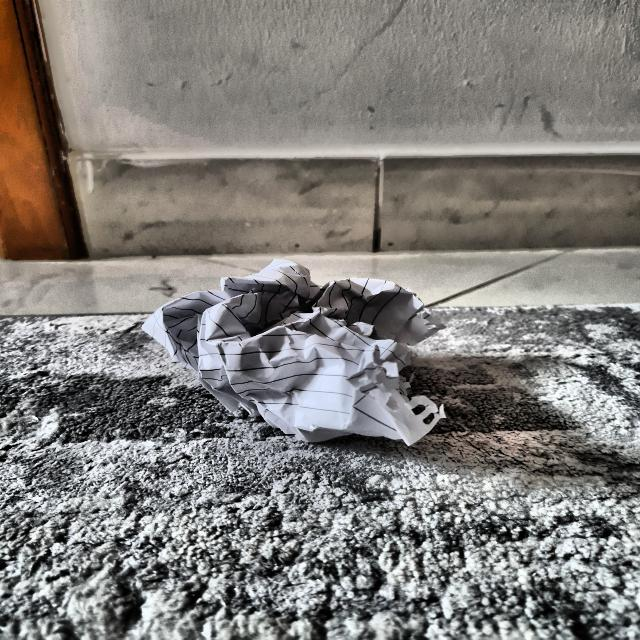Paper: (157, 261, 450, 440)
